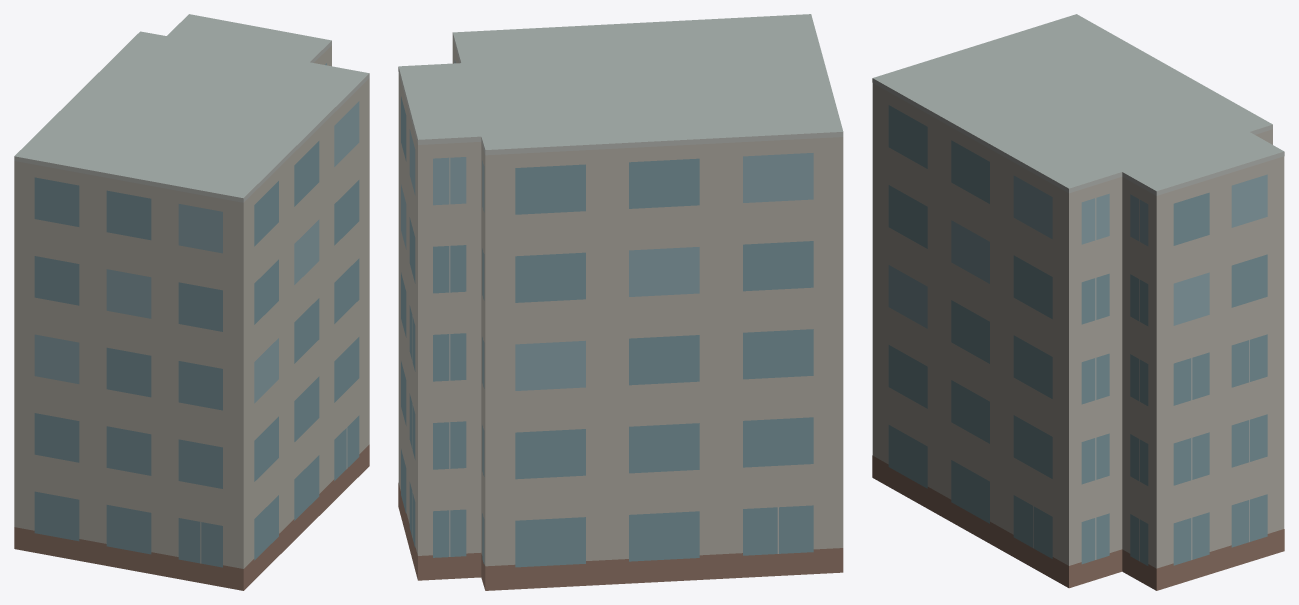
File: survey-upis-32716127.glb
The picture shows the model from 3 angles, left to right: view 1: azimuth 30°, elevation 25°; view 2: azimuth 150°, elevation 25°; view 3: azimuth 270°, elevation 25°; orthographic projection. The views are drawn at different scales.
Parts seen in each view (by area): view 1: survey-upis-32716127.tmp; view 2: survey-upis-32716127.tmp; view 3: survey-upis-32716127.tmp.
Boxes of the visible parts, left/top/right/bottom form: survey-upis-32716127.tmp: left=14, top=14, right=369, bottom=590; survey-upis-32716127.tmp: left=398, top=14, right=843, bottom=590; survey-upis-32716127.tmp: left=872, top=14, right=1284, bottom=590.
Size of the model in its own units: 19.8 by 20.8 by 19.44.
